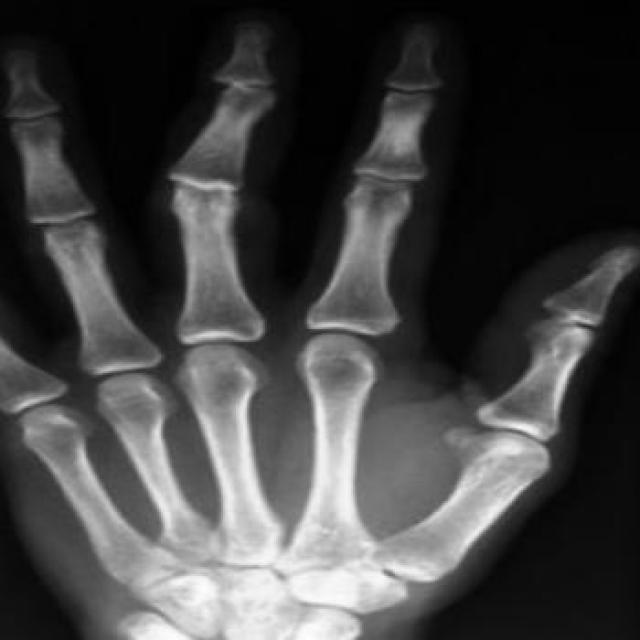Fracture: (206, 70, 280, 100)
